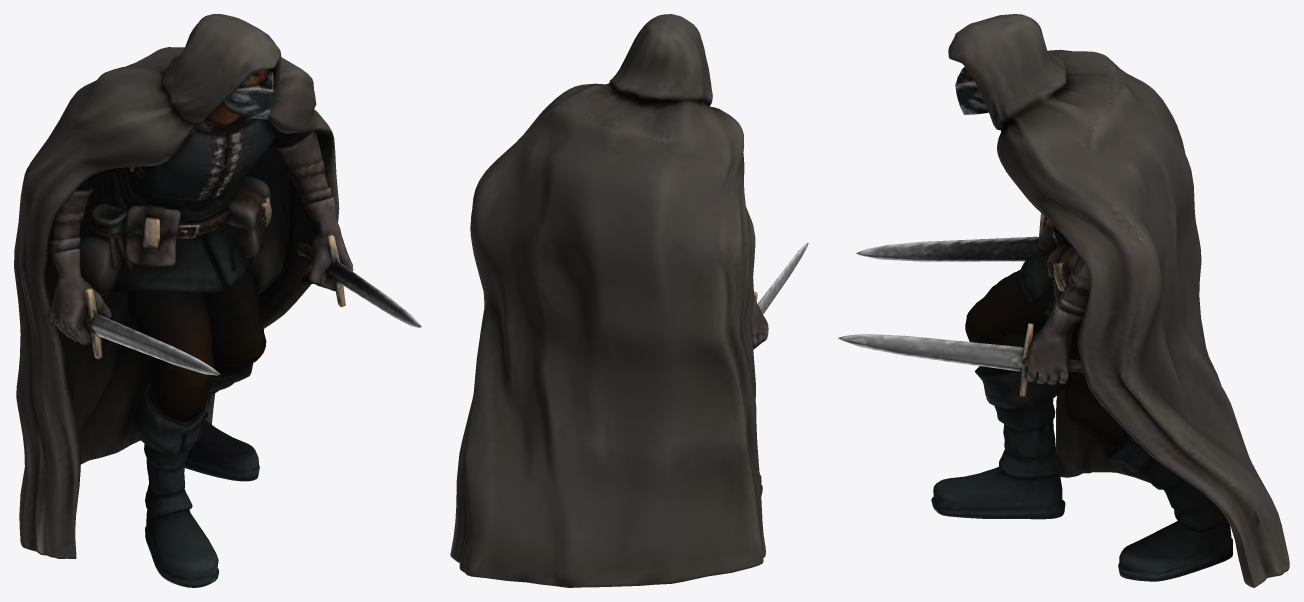
File: MZ4250 - Assassin Male_2_2025.glb
The picture shows the model from 3 angles, left to right: view 1: azimuth 30°, elevation 25°; view 2: azimuth 150°, elevation 25°; view 3: azimuth 270°, elevation 25°; orthographic projection. The views are drawn at different scales.
Visible parts, largest first — view 1: Body.002; view 2: Body.002; view 3: Body.002.
Part boxes in pixels (<box>): Body.002: <box>14,14,421,587</box>; Body.002: <box>450,14,808,587</box>; Body.002: <box>837,14,1289,587</box>.
Bounding box in the file's own units: 53.51 × 87.32 × 68.97.
1 material, 1 textured.
